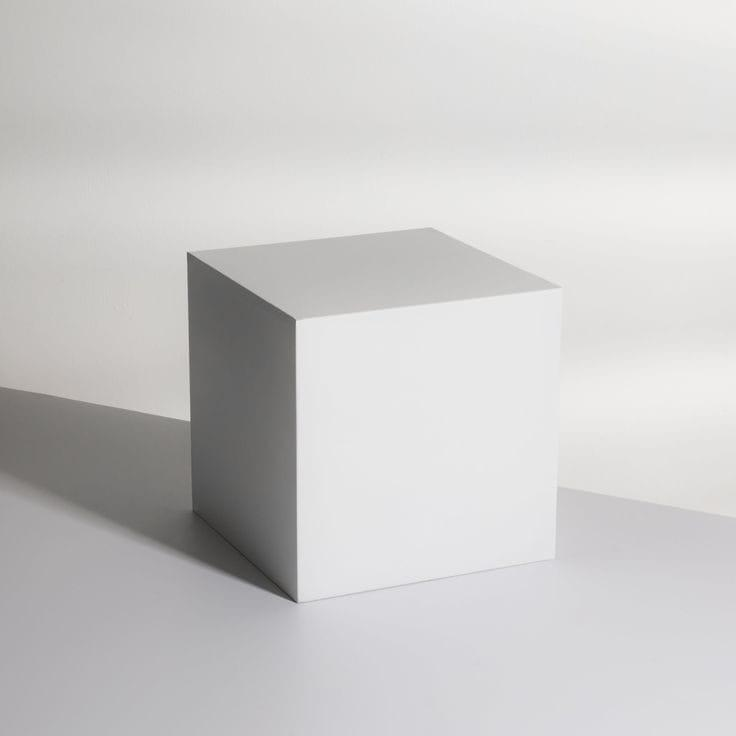cubos: (173, 217, 592, 623)
